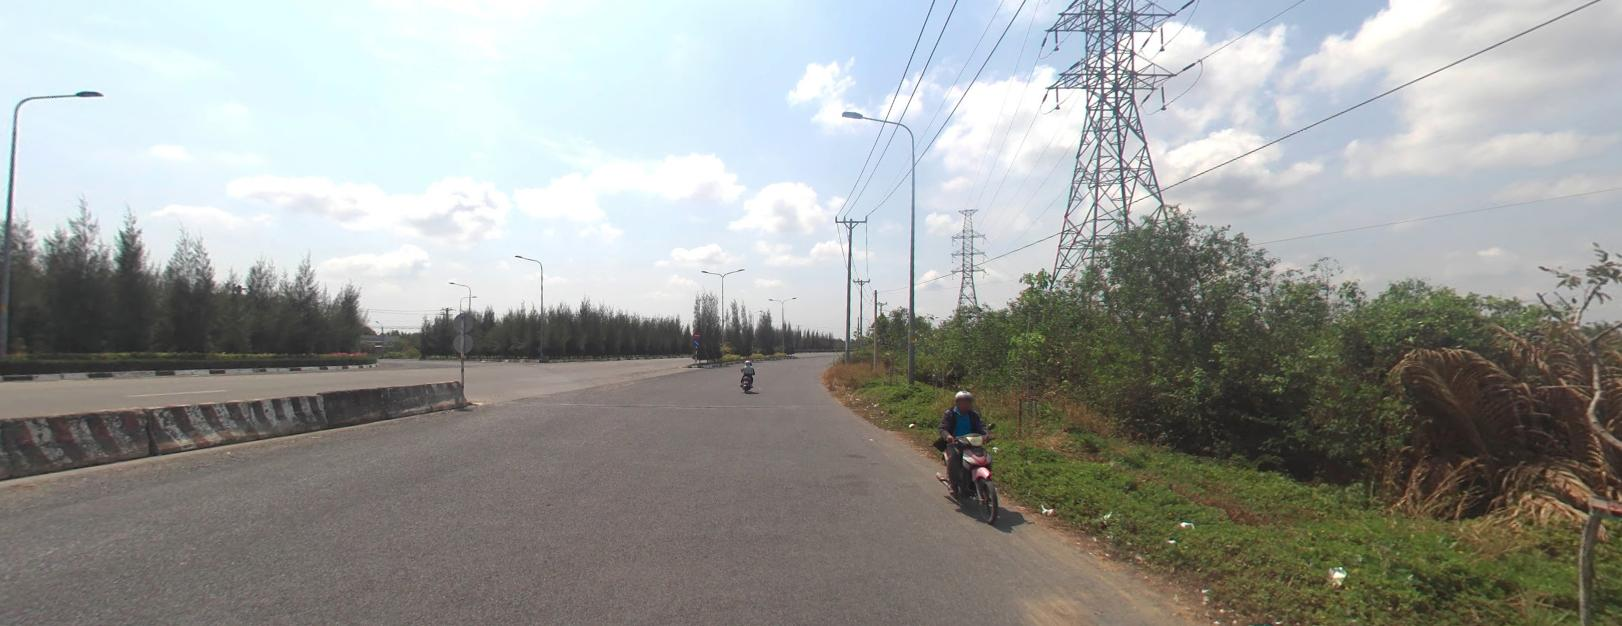Cam nguoc chieu: (693, 329, 700, 337)
Hieu lenh: (692, 337, 699, 343)
